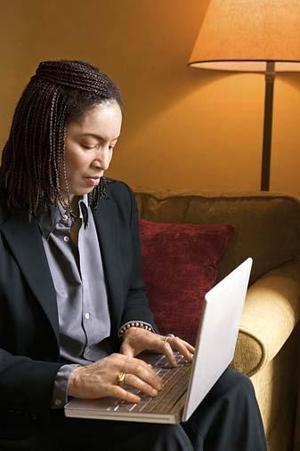person: (3, 59, 271, 451)
